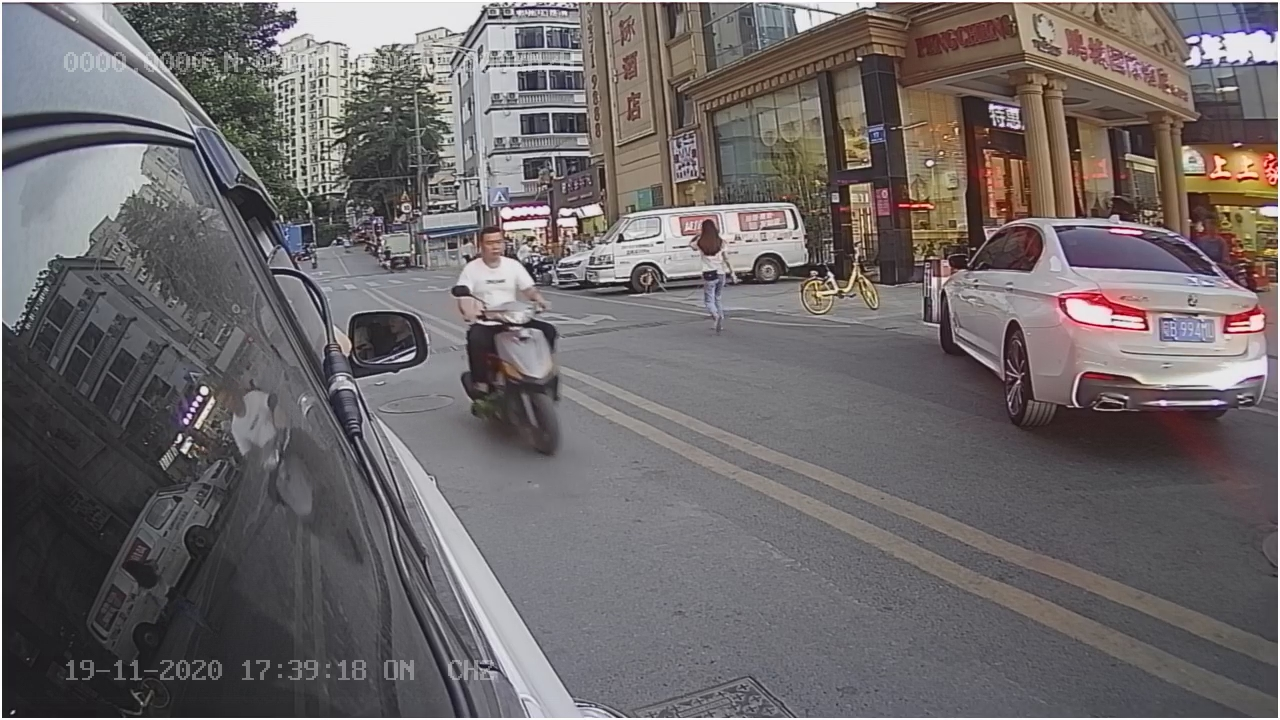person: (455, 226, 542, 324)
